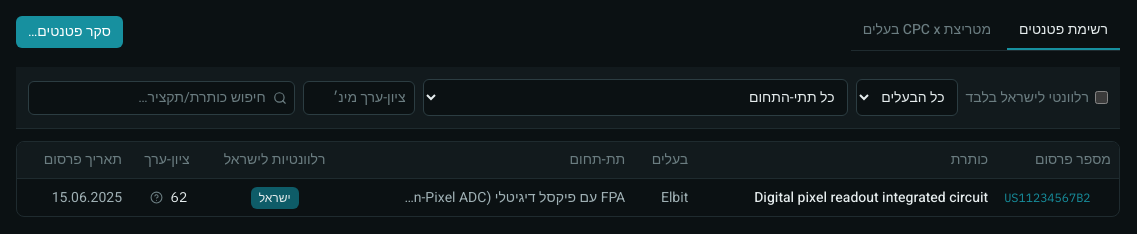
Test: PatentsPage › F33: filters are sent to the API, not applied only client-side › re-fetches from the server (not a local re-filter) when the subdomain filter changes
Check: the text "Digital pixel readout integrated circuit" is shown, box x1=696 y1=178 x2=996 y2=216
Select "rare_subdomain" in the dropdown named "סינון לפי תת-תחום" at x=635, y=98, box x1=423 y1=79 x2=848 y2=116
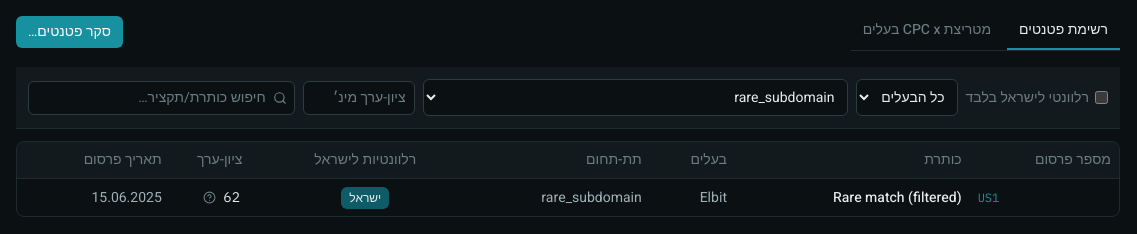
Check: the text "Rare match (filtered)" is shown, box x1=735 y1=178 x2=970 y2=216
